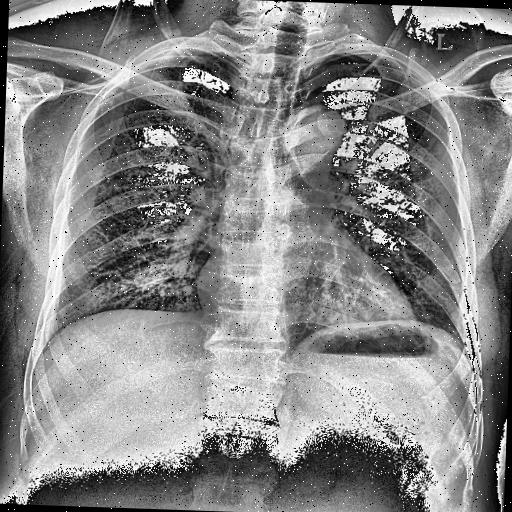5- ILD: (294, 56, 480, 348), (46, 34, 224, 320), (54, 116, 220, 322), (344, 194, 476, 335)
8- Nodule-Mass: (162, 275, 199, 300), (174, 281, 198, 299), (366, 139, 378, 150)
